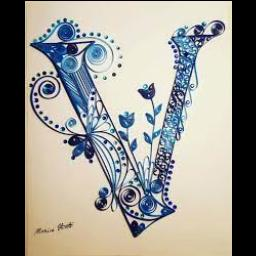v: (26, 32, 222, 240)
